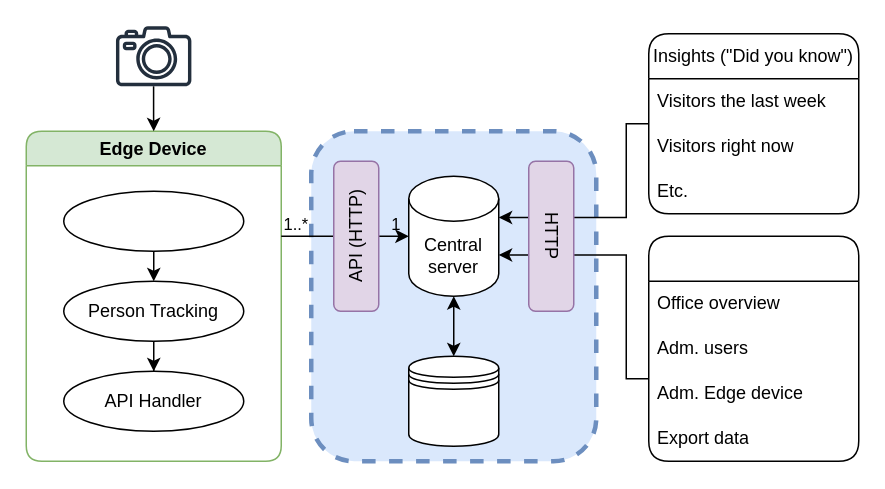
Image size: 885x489. Some labels were removed from this diagram. Each missing label, with the box of its shape:
Dashboard: (647, 235, 859, 461)
Database: (407, 355, 499, 446)
Person Detection: (62, 190, 244, 251)
